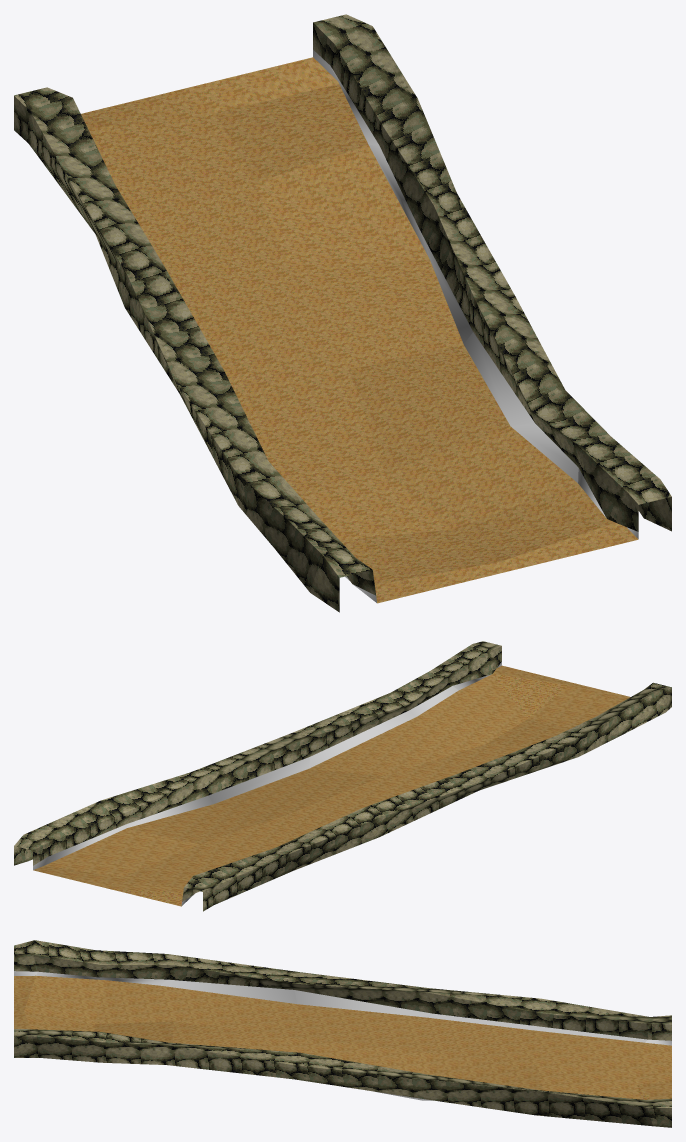
3 renders of one model, top to bottom at view 1: azimuth 30°, elevation 25°; view 2: azimuth 150°, elevation 25°; view 3: azimuth 270°, elevation 25°, orthographic. The views are drawn at different scales.
Parts seen in each view (by area): view 1: tv_t0b0e0v1; view 2: tv_t0b0e0v1; view 3: tv_t0b0e0v1.
Part boxes in pixels (box(x1,y1,x2,y2)): tv_t0b0e0v1: box(14, 14, 671, 612); tv_t0b0e0v1: box(14, 641, 671, 911); tv_t0b0e0v1: box(14, 940, 671, 1127).
Size of what is drawn, in the model's own units: 17.95 by 30 by 1.81.
